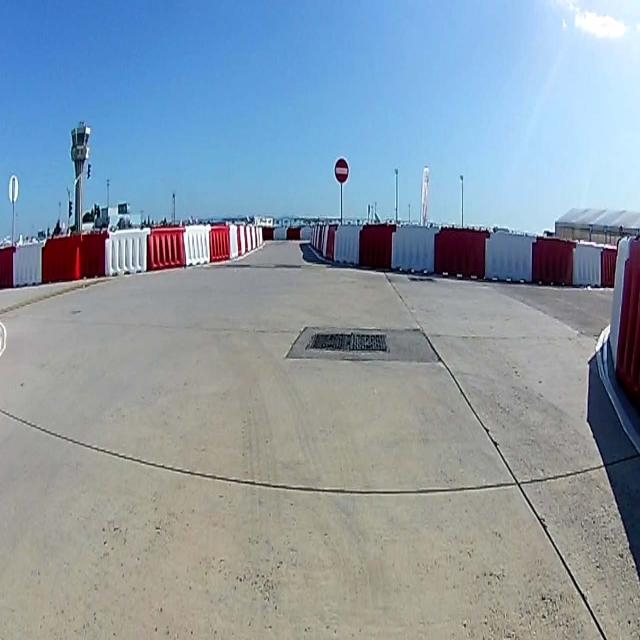girisyok: (334, 157, 348, 183)
